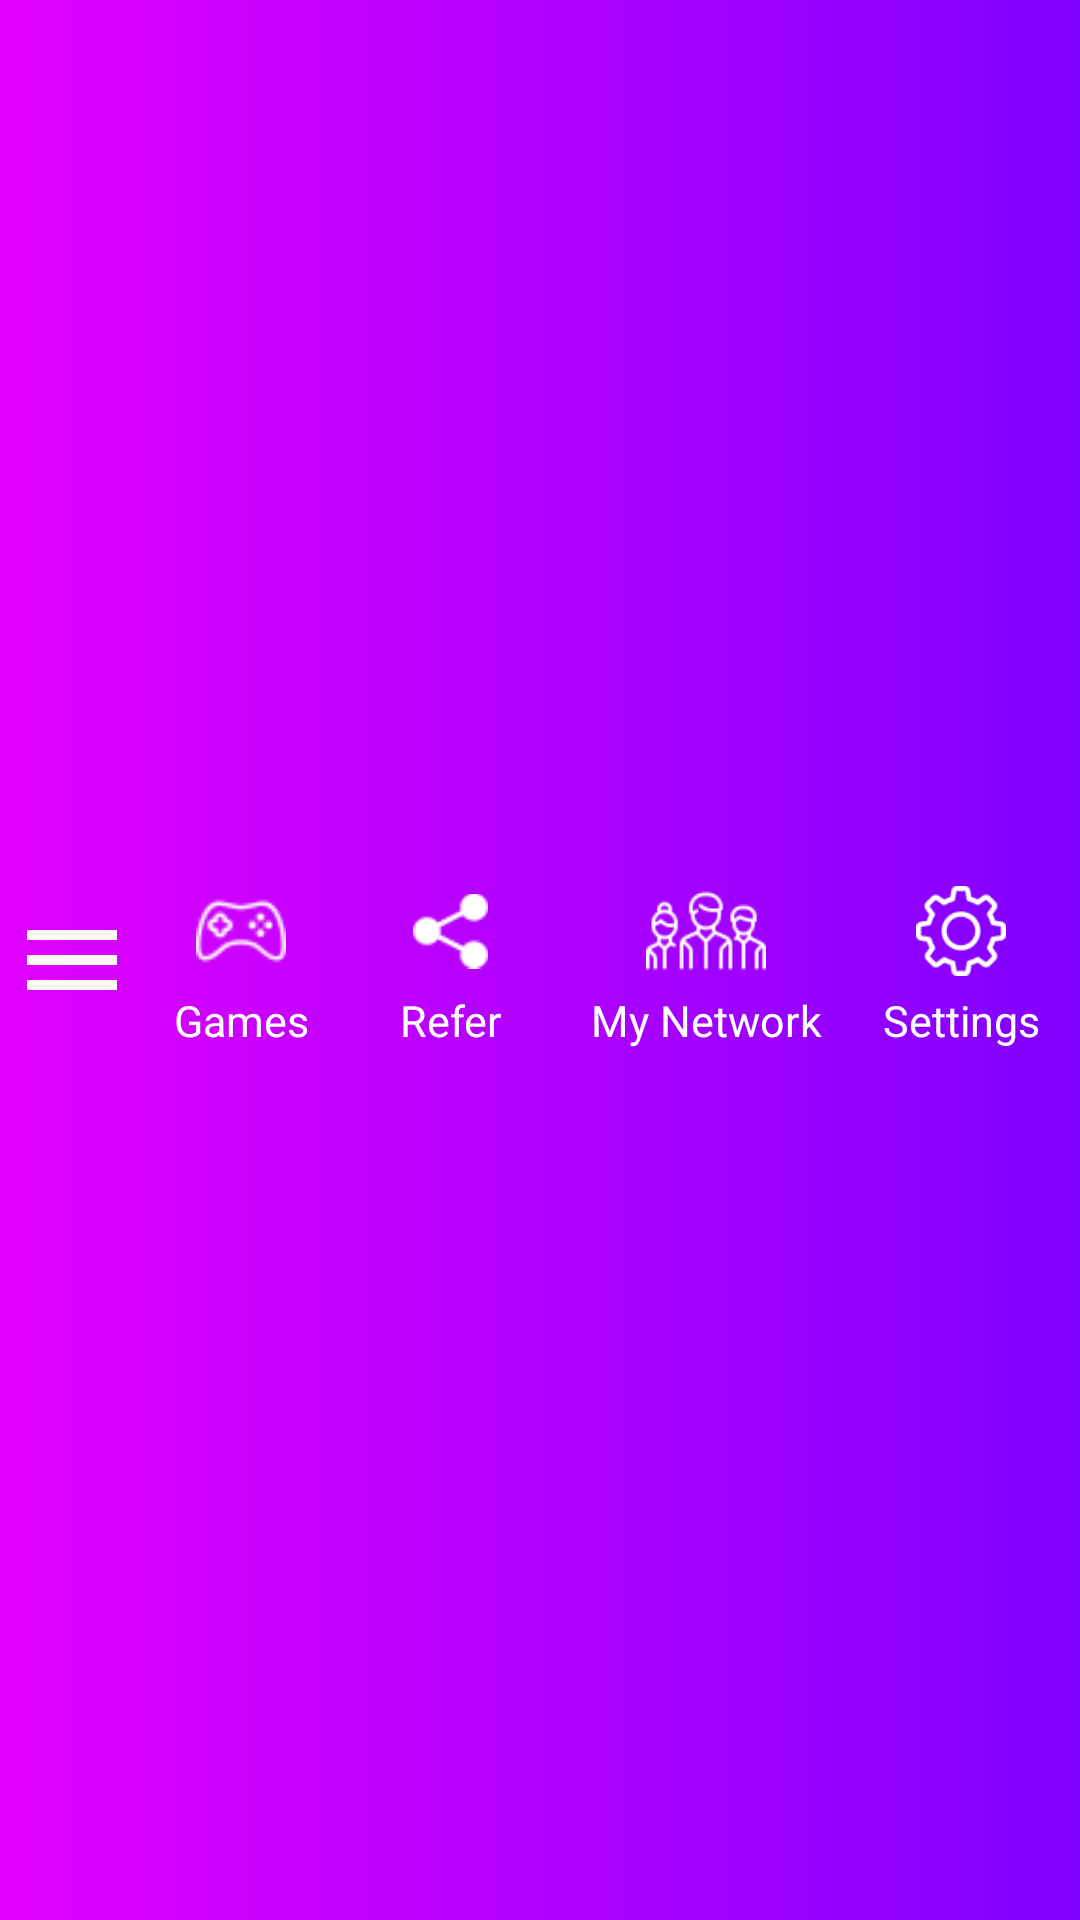

Where icons sit on this 1080×1920 app screen, as (x1, y1, x2, y2):
menu: (27, 930, 117, 990)
share: (413, 894, 488, 969)
